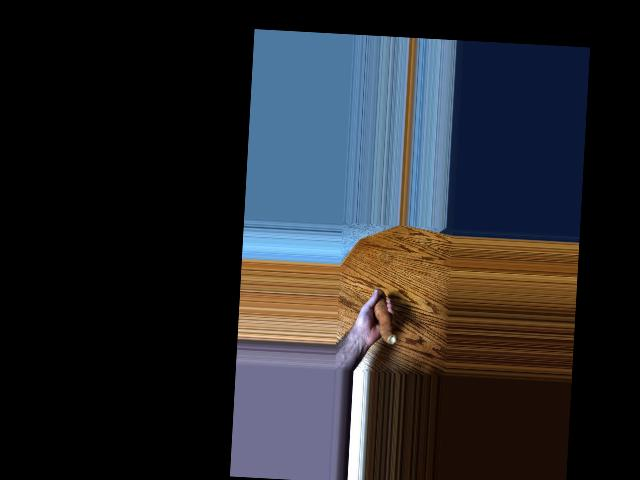sweet_potato: (371, 286, 398, 348)
